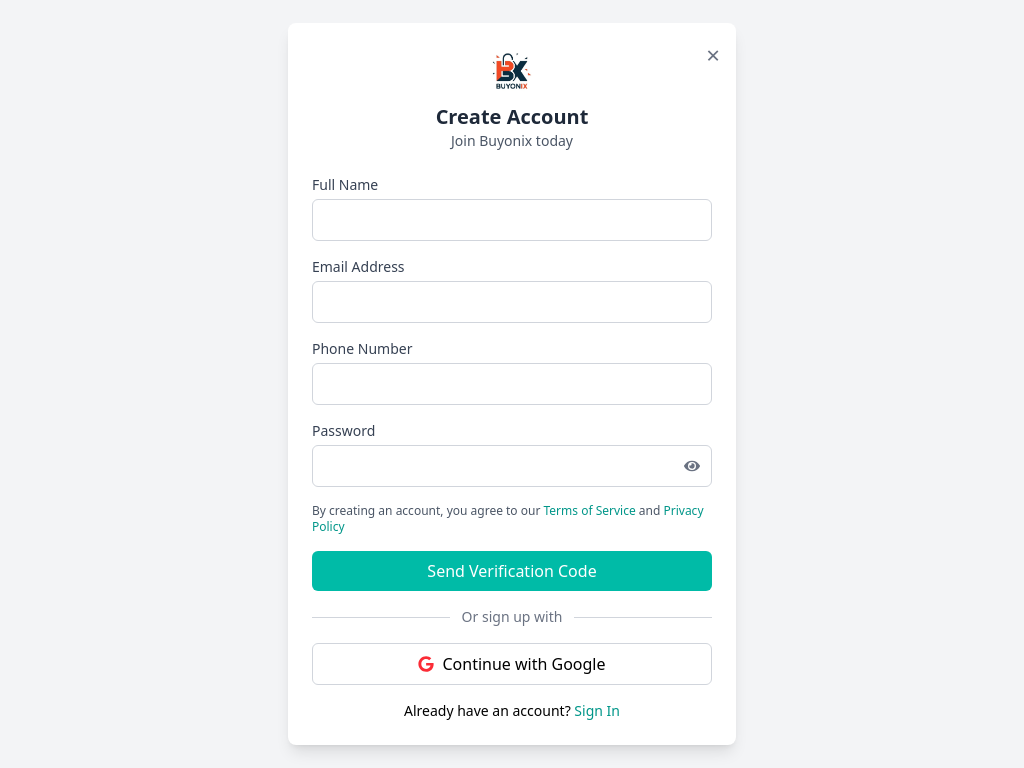
it: SignUp Unit Tests › should show network error on fetch failure
In the field labelled "Full Name": (512, 220) [312, 199, 712, 241], type "John"
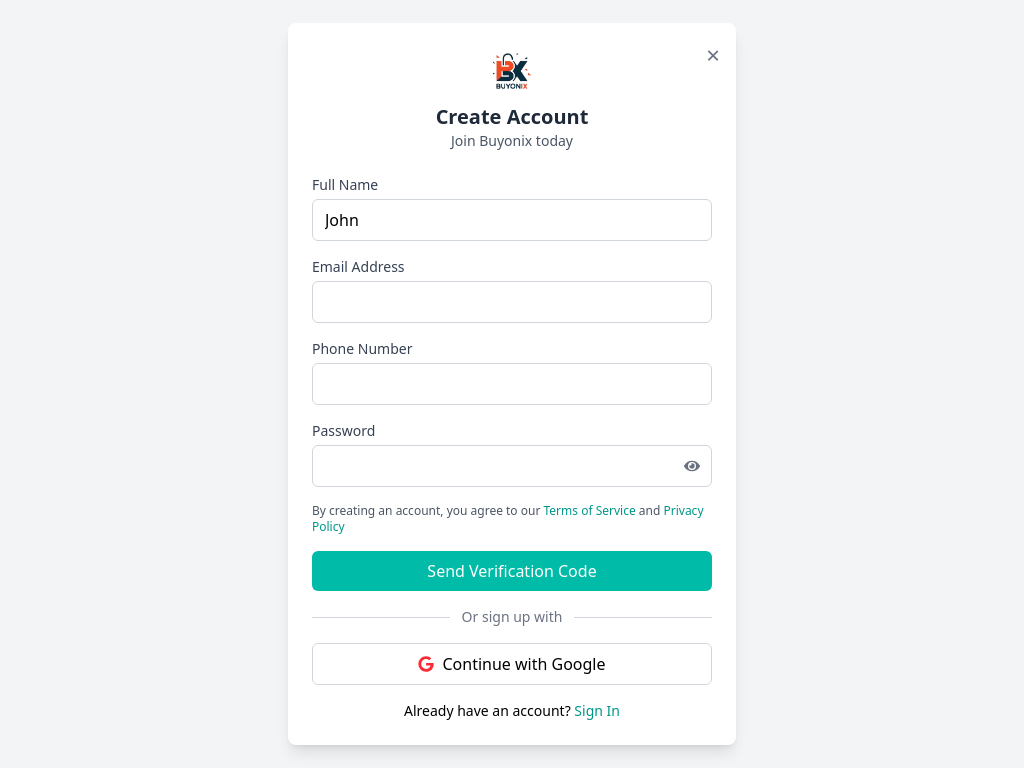
In the field labelled "Email Address": (512, 302) [312, 281, 712, 323], type "j@t.com"
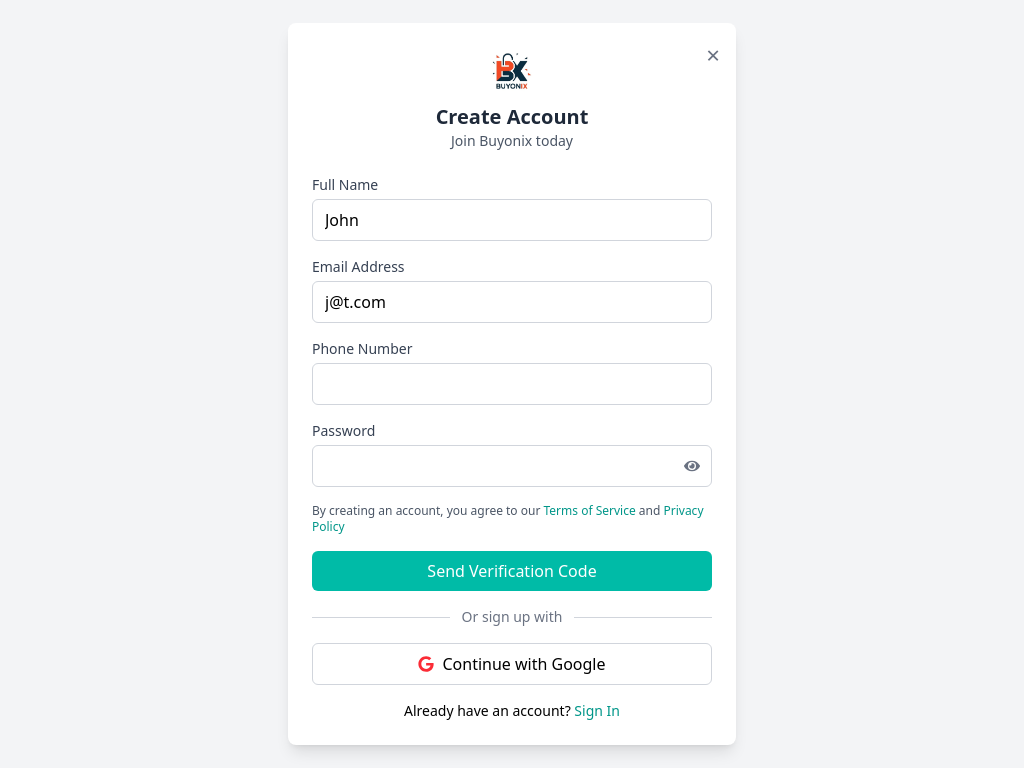
In the field labelled "Phone Number": (512, 384) [312, 363, 712, 405], type "123"
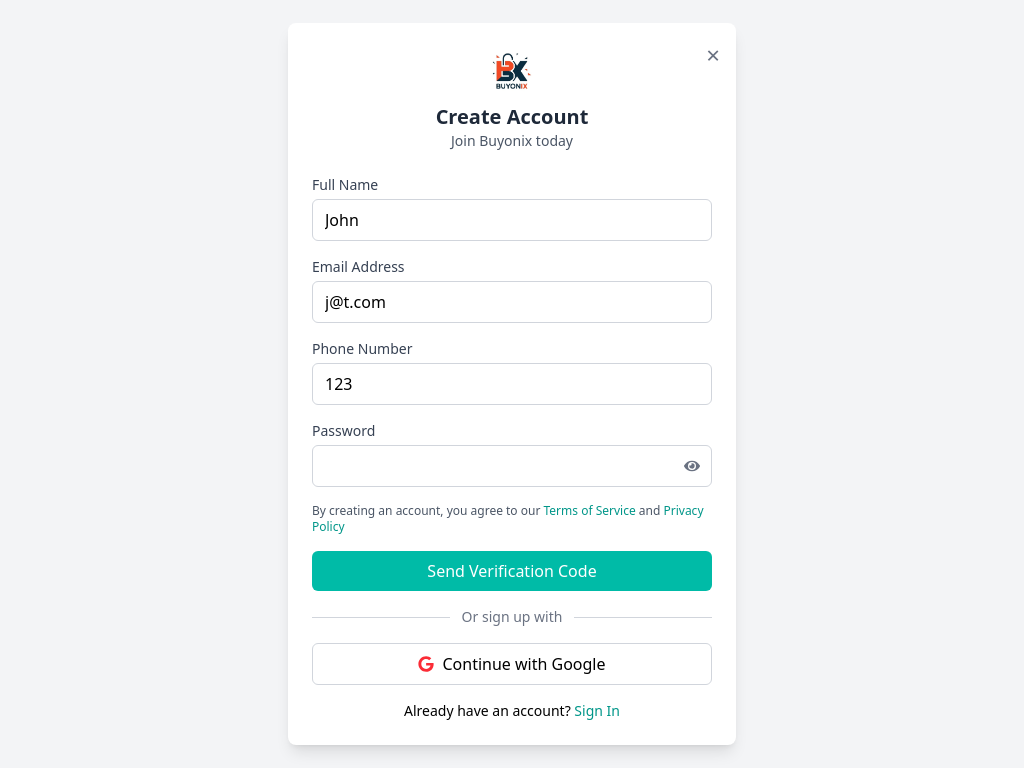
In the password field labelled "Password": (512, 466) [312, 445, 712, 487], type "pass"
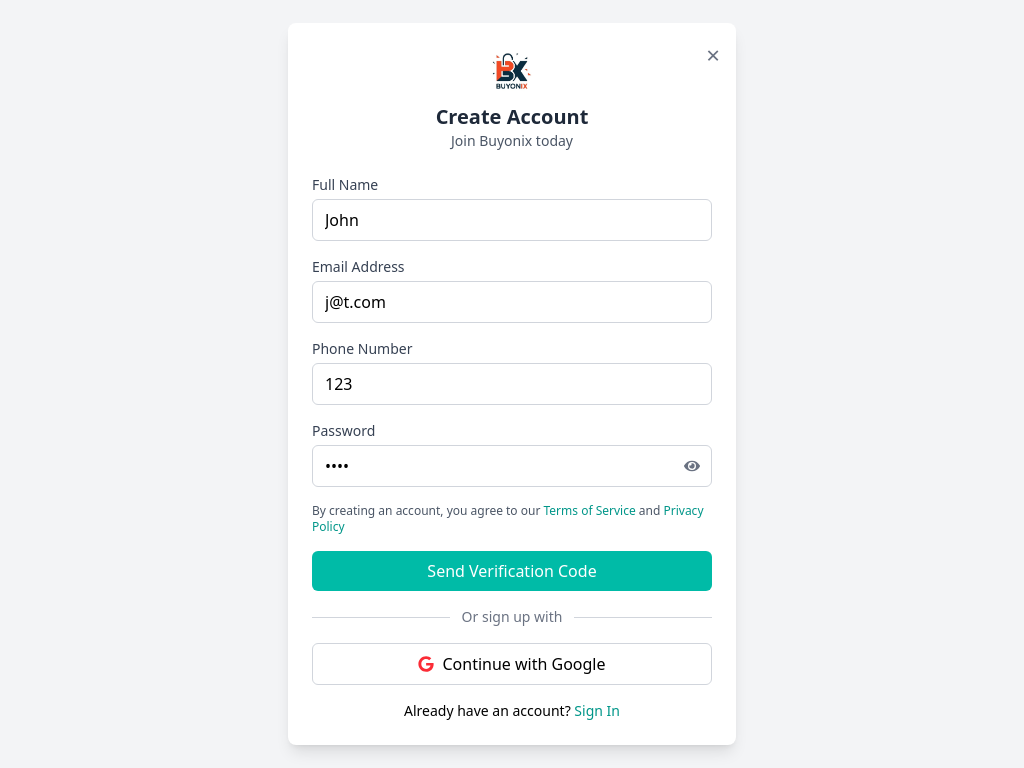
Click the button "Send Verification Code": (512, 571) [312, 551, 712, 591]
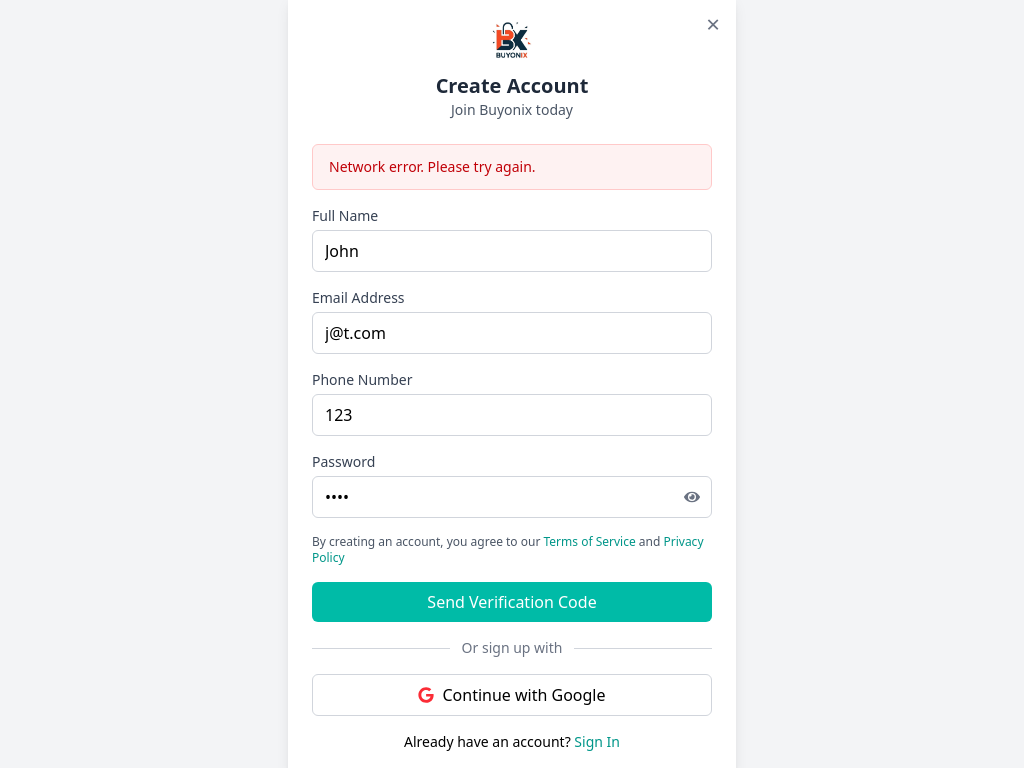
Expected: the text "Network error. Please try again." is shown, [312, 144, 712, 190]
